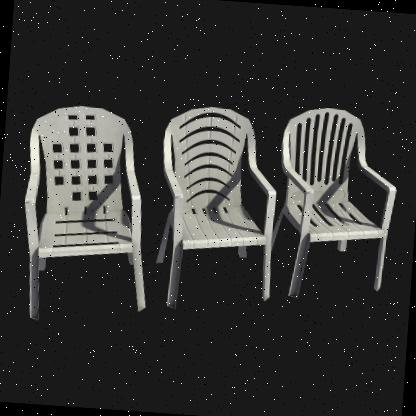chair: (7, 101, 160, 338), (259, 98, 405, 312), (147, 101, 285, 322)
